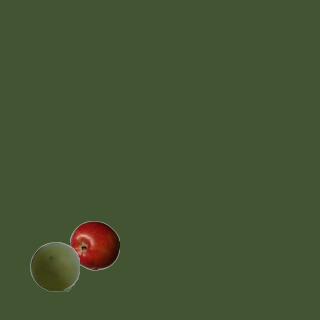Apple Braeburn: (69, 220, 119, 270)
Grape White 4: (29, 241, 79, 291)
